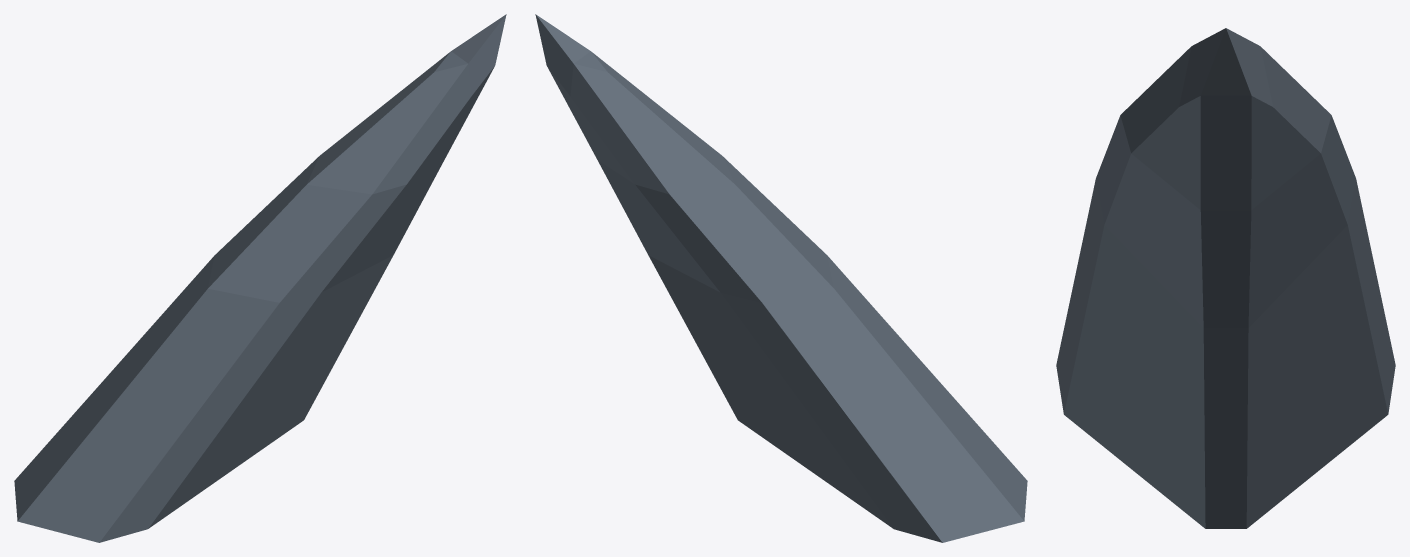
The model's file is Rock_Sharp_l_04.fbx.
3 views of the same model, side by side, from view 1: azimuth 30°, elevation 25°; view 2: azimuth 150°, elevation 25°; view 3: azimuth 270°, elevation 25° (orthographic). The views are drawn at different scales.
Visible parts, largest first — view 1: Rock_Sharp_l_04; view 2: Rock_Sharp_l_04; view 3: Rock_Sharp_l_04.
Part boxes in pixels (<box>): Rock_Sharp_l_04: <box>14,14,506,542</box>; Rock_Sharp_l_04: <box>535,14,1027,542</box>; Rock_Sharp_l_04: <box>1056,28,1395,528</box>.
Size of the model in its own units: 7.52 by 5.7 by 2.26.
